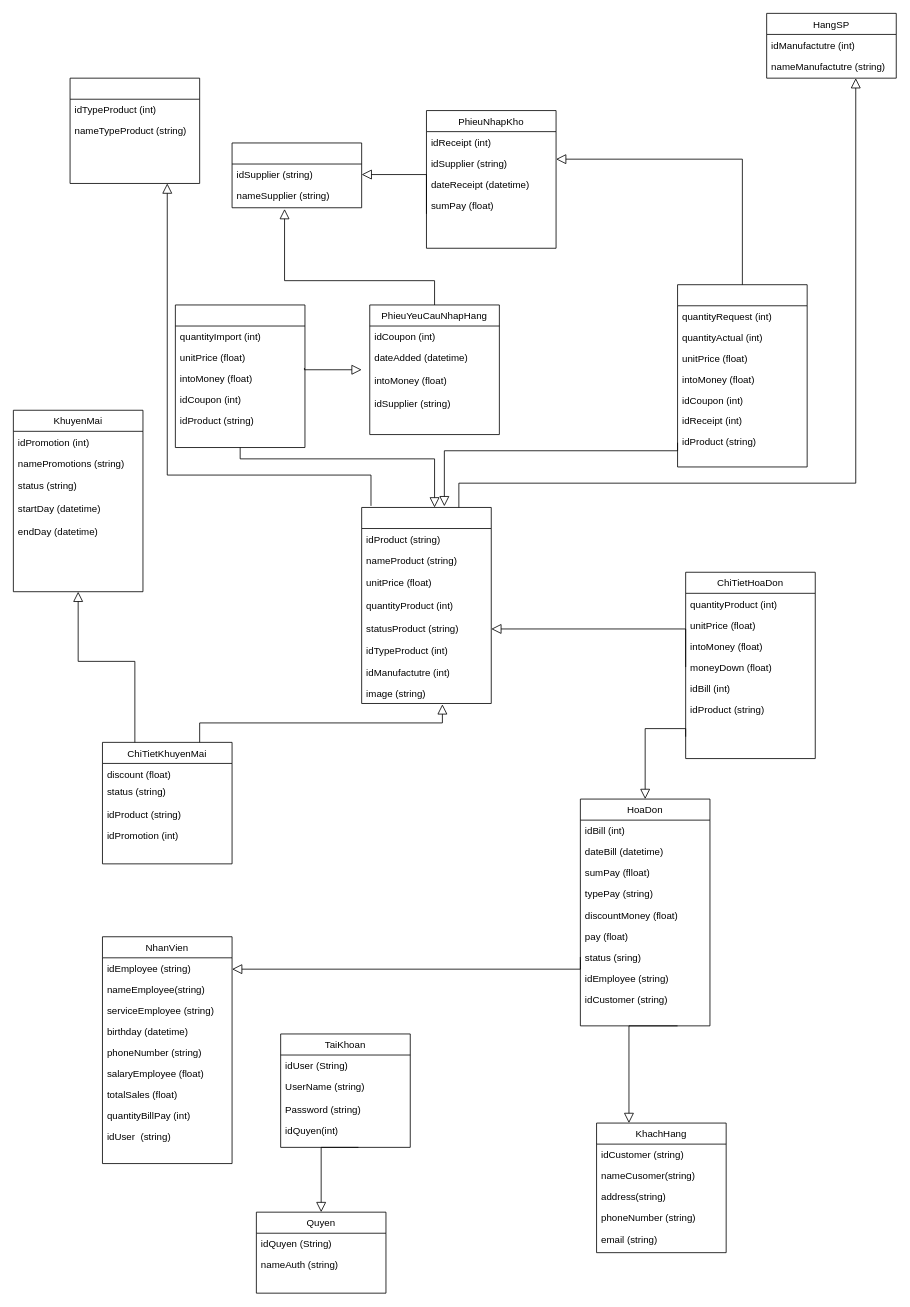
This 910x1307 diagram has some shape labels left out. Here are the shapes that lost their labels. From the top down, the box of each, then its label:
(69, 77, 200, 183): DanhMucLapTop
(231, 142, 362, 208): NhaCungCap
(175, 304, 305, 448): ChiTietPhieuYcNhapHang
(677, 284, 807, 467): ChiTietNhapKho
(361, 507, 491, 703): SanPham
